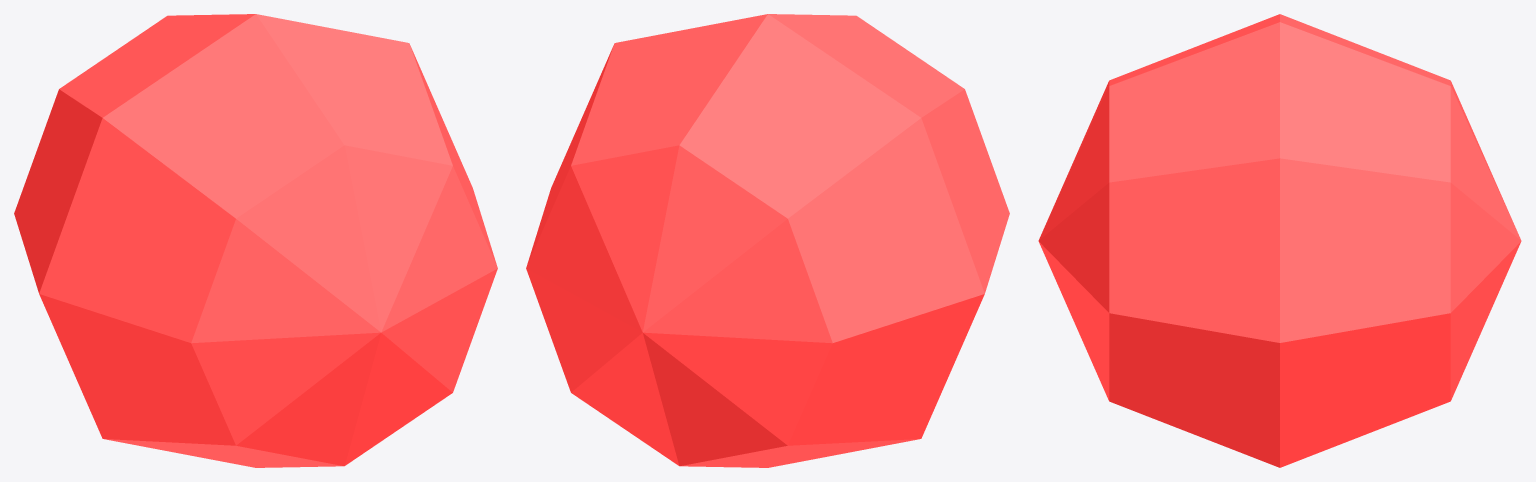
The model's file is sphere_red.gltf.
The picture shows the model from 3 angles, left to right: view 1: azimuth 30°, elevation 25°; view 2: azimuth 150°, elevation 25°; view 3: azimuth 270°, elevation 25°; orthographic projection. The views are drawn at different scales.
Parts seen in each view (by area): view 1: Node; view 2: Node; view 3: Node.
Part boxes in pixels (bbox=[...]): Node: bbox=[14, 14, 497, 467]; Node: bbox=[526, 14, 1009, 467]; Node: bbox=[1038, 14, 1521, 467].
Bounding box in the file's own units: 13.6 × 13.6 × 13.6.
